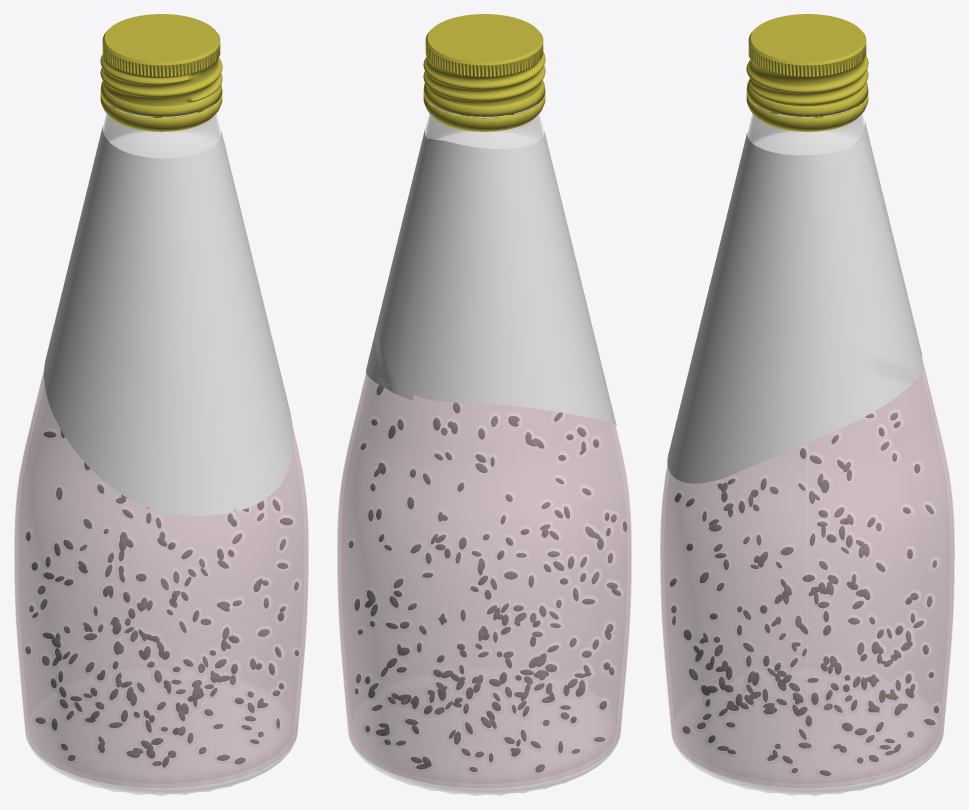
File: glass-290-basil.glb
3 renders of one model, left to right at view 1: azimuth 30°, elevation 25°; view 2: azimuth 150°, elevation 25°; view 3: azimuth 270°, elevation 25°, orthographic.
Parts seen in each view (by area): view 1: G290_ClosedGlass, Body, Label, Golden Cap, Seeds, G290_HighNeck, Neck, Base; view 2: G290_ClosedGlass, Body, Label, Golden Cap, Seeds, G290_HighNeck, Neck, Base; view 3: G290_ClosedGlass, Body, Label, Golden Cap, Seeds, G290_HighNeck, Neck, Base.
Part boxes in pixels (<box>): G290_ClosedGlass: <box>14,371,308,795</box>; Body: <box>15,372,307,788</box>; Label: <box>44,126,293,515</box>; Golden Cap: <box>100,14,222,131</box>; Seeds: <box>25,430,298,767</box>; G290_HighNeck: <box>103,104,220,158</box>; Neck: <box>103,104,220,157</box>; Base: <box>31,748,291,795</box>; G290_ClosedGlass: <box>337,374,631,795</box>; Body: <box>338,374,630,788</box>; Label: <box>366,128,616,425</box>; Golden Cap: <box>423,14,545,131</box>; Seeds: <box>349,385,626,772</box>; G290_HighNeck: <box>425,105,543,148</box>; Neck: <box>425,105,543,148</box>; Base: <box>353,747,614,795</box>; G290_ClosedGlass: <box>660,132,954,795</box>; Body: <box>660,359,954,788</box>; Label: <box>667,121,923,483</box>; Golden Cap: <box>746,14,868,131</box>; Seeds: <box>670,413,938,775</box>; G290_HighNeck: <box>747,105,864,154</box>; Neck: <box>748,105,864,154</box>; Base: <box>676,746,938,795</box>.
Bounding box in the file's own units: 0.0682 × 0.1804 × 0.0682.
